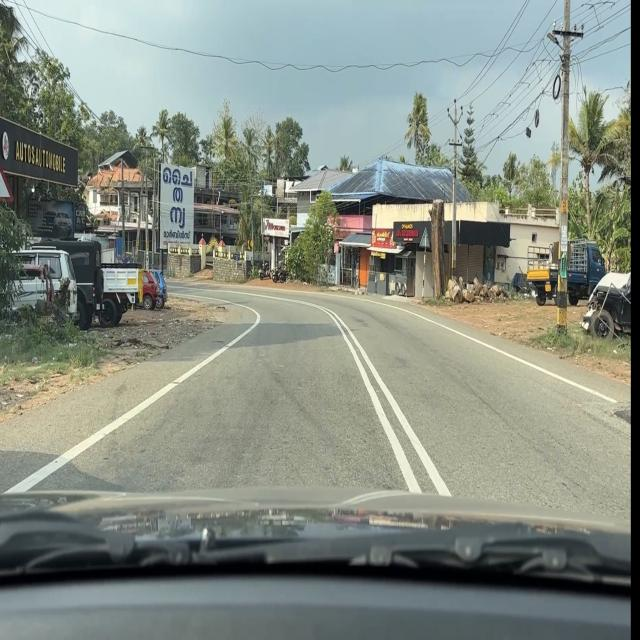TURN_LEFT: (248, 239, 252, 250)
